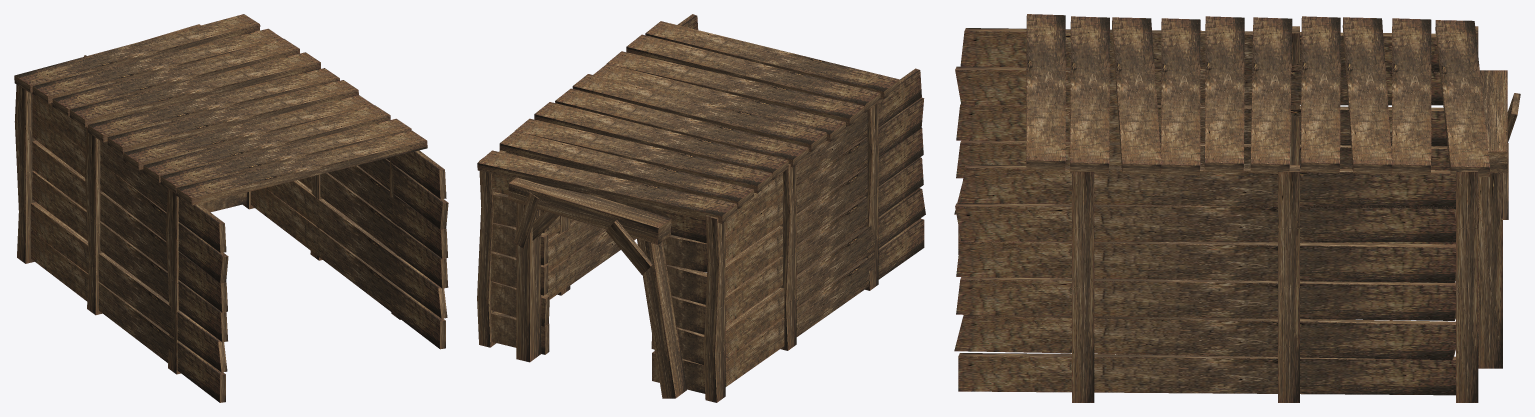
Rendered from exit.fbx.
3 renders of one model, left to right at view 1: azimuth 30°, elevation 25°; view 2: azimuth 150°, elevation 25°; view 3: azimuth 270°, elevation 25°, orthographic. The views are drawn at different scales.
Parts seen in each view (by area): view 1: Cube_40; view 2: Cube_40; view 3: Cube_40.
Part boxes in pixels (bbox=[...]): Cube_40: bbox=[14, 14, 448, 402]; Cube_40: bbox=[477, 14, 925, 402]; Cube_40: bbox=[954, 14, 1520, 402].
Bounding box in the file's own units: 1298 × 980 × 2083.
Materials: 1 (1 with a texture image).
